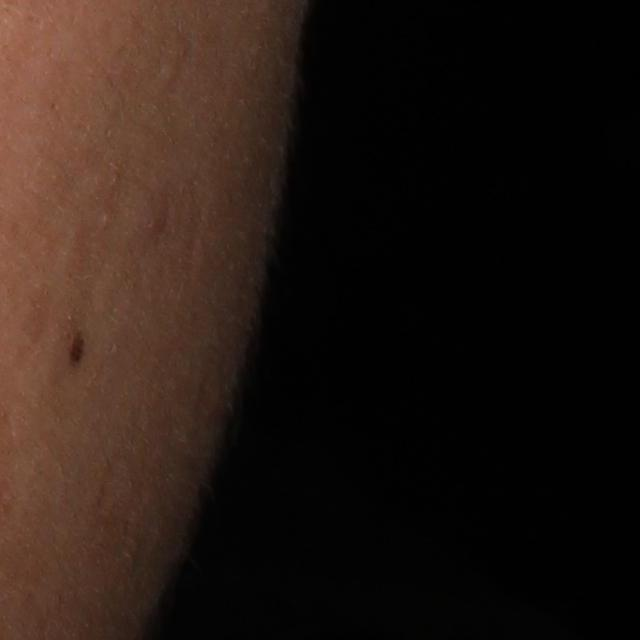nevus: (67, 328, 87, 377)
papule: (139, 208, 168, 233)
